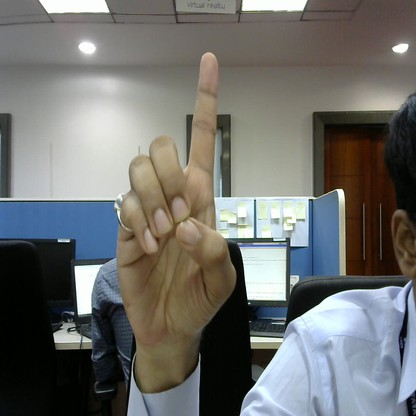d: (107, 44, 244, 341)
